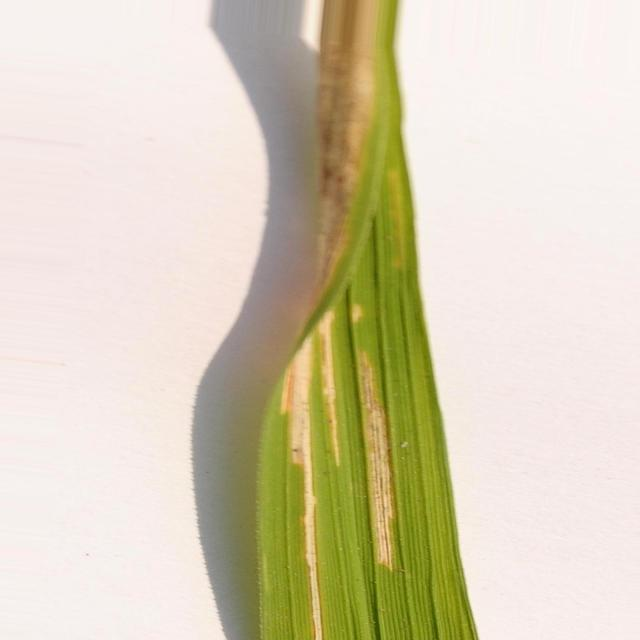Bacterial_Leaf_Blight: (318, 0, 380, 279), (281, 339, 321, 640), (358, 350, 395, 570), (319, 311, 340, 466), (351, 304, 362, 324)
